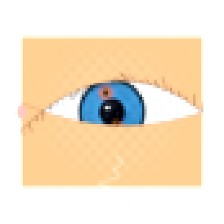foreign_body_visible: (92, 82, 119, 104)
